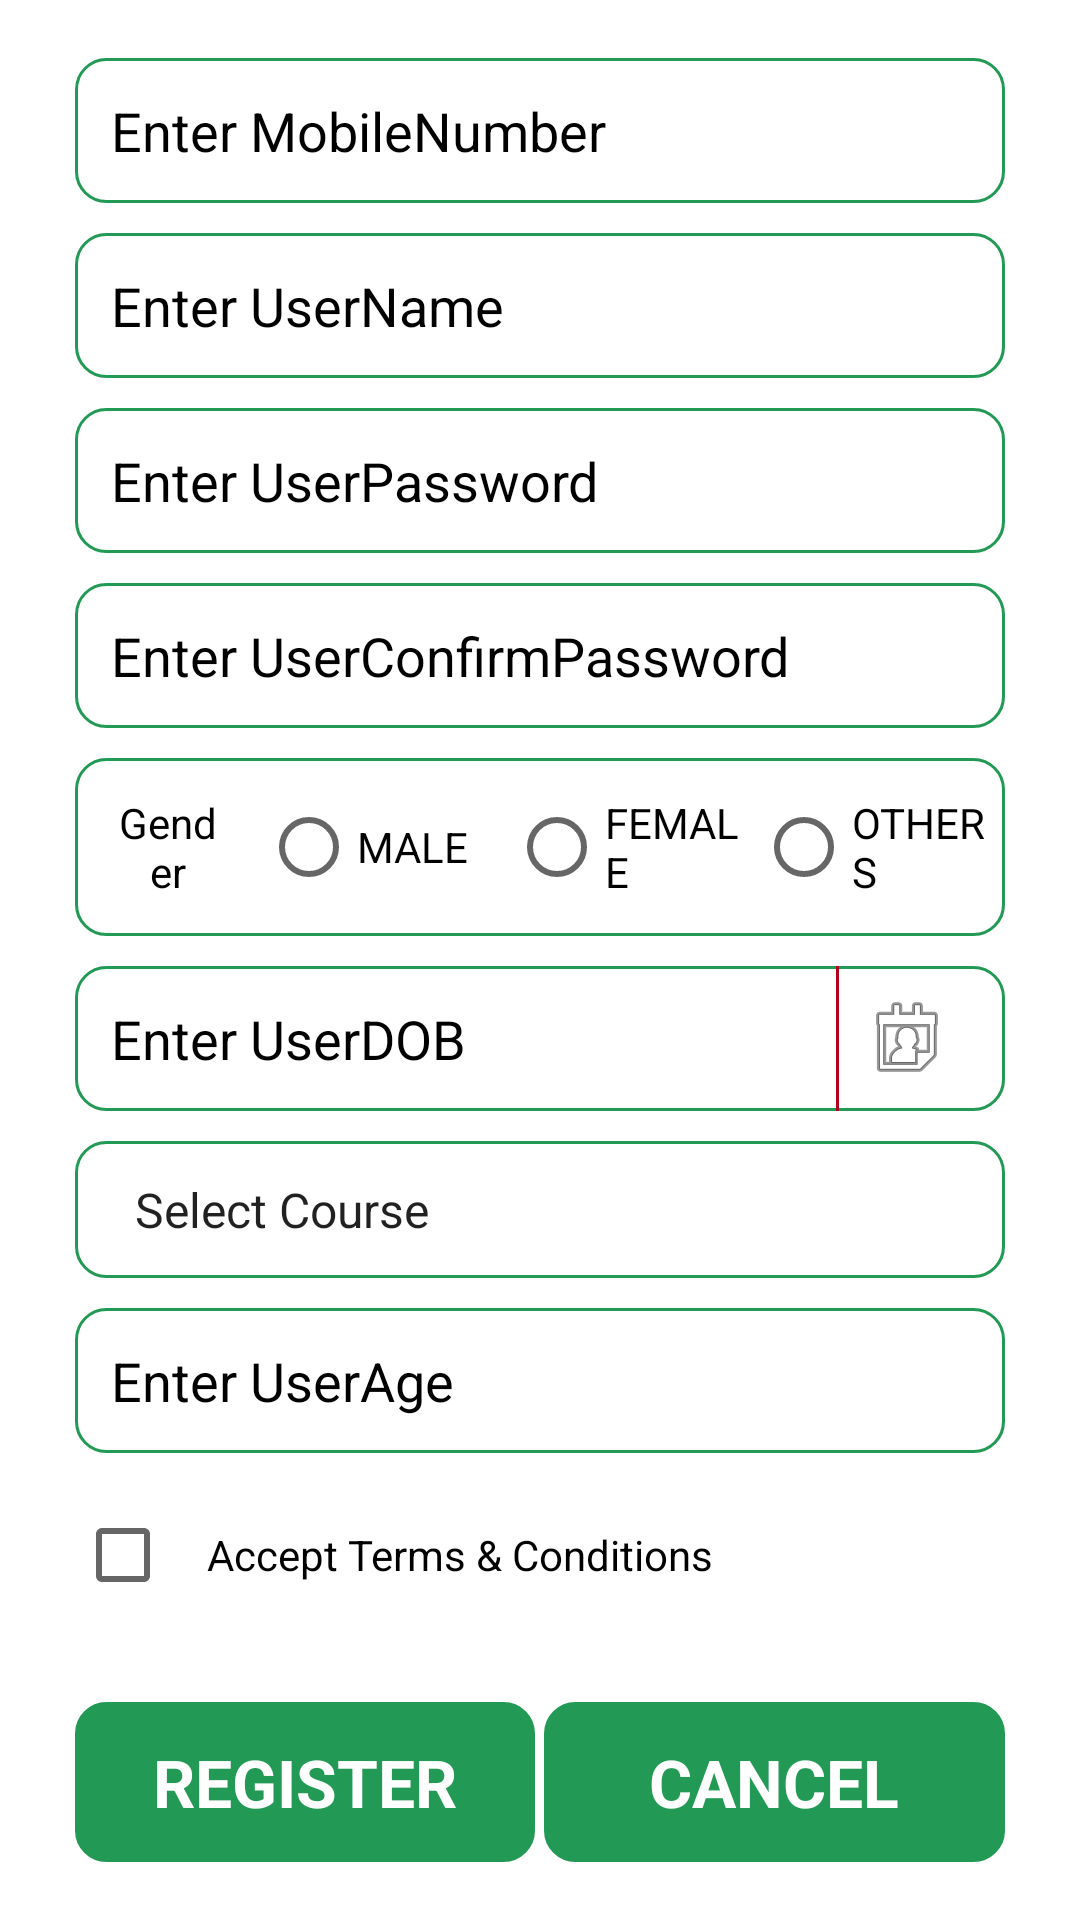

Named icons in this screenshot (1080*1920) and their bounding boxes, {"x1": x1, "y1": y1, "x2": x2, "y2": y2}:
calendar: {"x1": 876, "y1": 1002, "x2": 938, "y2": 1072}
